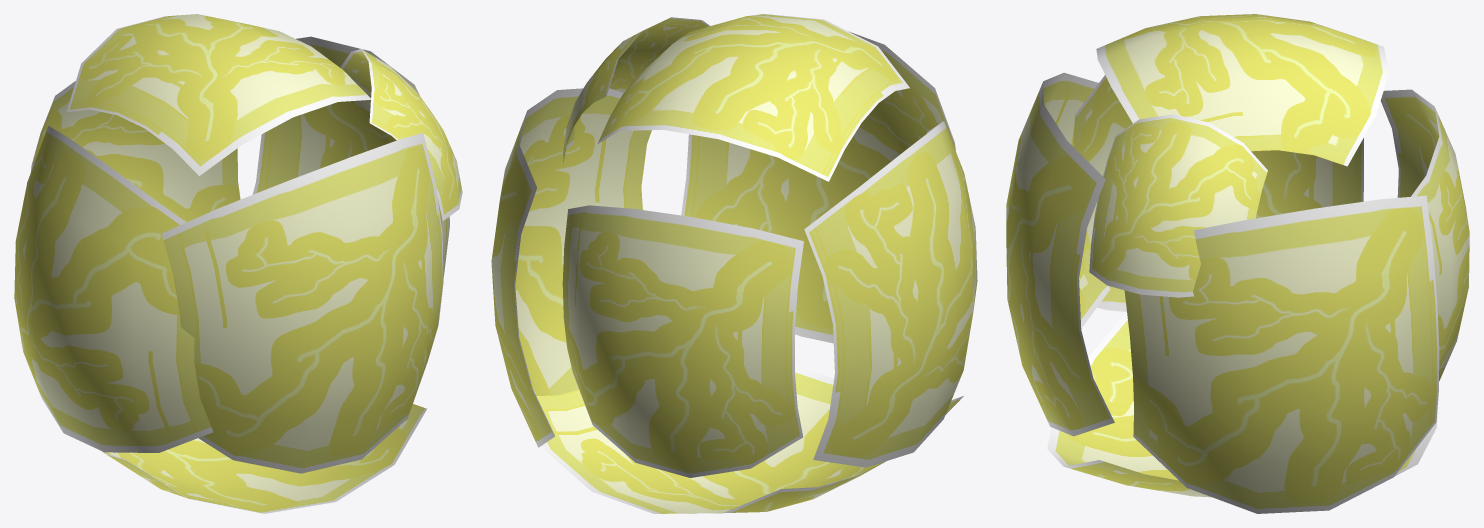
The model's file is Invert1.FBX.
The picture shows the model from 3 angles, left to right: view 1: azimuth 30°, elevation 25°; view 2: azimuth 150°, elevation 25°; view 3: azimuth 270°, elevation 25°; orthographic projection. The views are drawn at different scales.
Parts seen in each view (by area): view 1: Plane002, Plane004, Plane001, Plane006, Plane003, Plane007, Plane005; view 2: Plane003, Plane004, Plane001, Plane007, Plane002, Plane006, Plane005; view 3: Plane007, Plane001, Plane002, Plane005, Plane003, Plane004, Plane006.
Boxes of the visible parts, x1=… form: Plane002: x1=161, y1=133, x2=443, y2=473; Plane004: x1=14, y1=126, x2=213, y2=452; Plane001: x1=66, y1=14, x2=370, y2=176; Plane006: x1=20, y1=343, x2=426, y2=513; Plane003: x1=30, y1=81, x2=240, y2=222; Plane007: x1=252, y1=36, x2=449, y2=277; Plane005: x1=340, y1=49, x2=462, y2=220; Plane003: x1=562, y1=205, x2=803, y2=477; Plane004: x1=804, y1=121, x2=977, y2=467; Plane001: x1=597, y1=14, x2=909, y2=181; Plane007: x1=491, y1=88, x2=651, y2=447; Plane002: x1=681, y1=31, x2=955, y2=343; Plane006: x1=536, y1=366, x2=963, y2=513; Plane005: x1=562, y1=17, x2=709, y2=164; Plane007: x1=1124, y1=195, x2=1439, y2=513; Plane001: x1=1096, y1=14, x2=1388, y2=166; Plane002: x1=1006, y1=72, x2=1114, y2=436; Plane005: x1=1089, y1=114, x2=1267, y2=297; Plane003: x1=1380, y1=89, x2=1469, y2=381; Plane004: x1=1073, y1=75, x2=1363, y2=311; Plane006: x1=1047, y1=312, x2=1437, y2=497.
Size of the model in its own units: 527 by 530 by 514.
